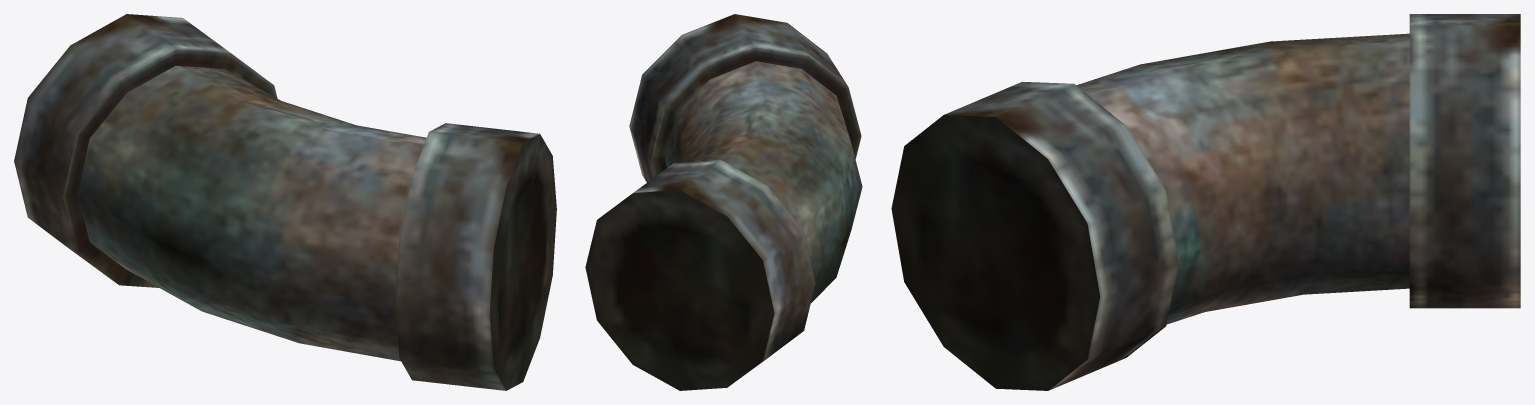
File: pipe_medium2_45_pplant.dae
3 views of the same model, side by side, from view 1: azimuth 30°, elevation 25°; view 2: azimuth 150°, elevation 25°; view 3: azimuth 270°, elevation 25° (orthographic). The views are drawn at different scales.
Visible parts, largest first — view 1: pipe_medium2_45_pplant; view 2: pipe_medium2_45_pplant; view 3: pipe_medium2_45_pplant.
Part boxes in pixels (bbox=[...]): pipe_medium2_45_pplant: bbox=[14, 14, 556, 390]; pipe_medium2_45_pplant: bbox=[585, 14, 862, 390]; pipe_medium2_45_pplant: bbox=[891, 14, 1520, 390].
Size of the model in its own units: 0.3949 by 0.2524 by 0.5292.
